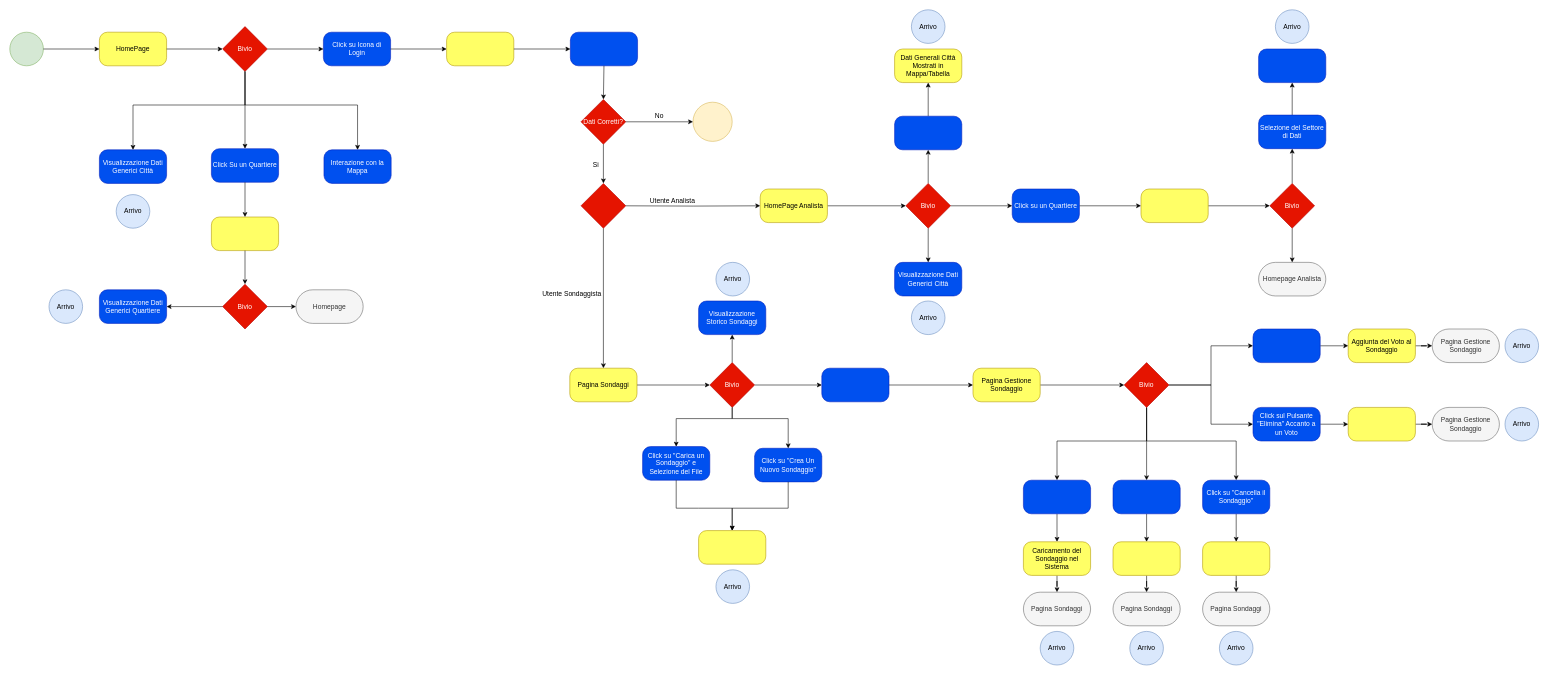
Image size: 1548x675. Some labels were removed from this diagram. The shapes that lost their labels are listed below. From the top down, each one's centre as x and y in pixels, then its label:
[26,49]: Inizio
[480,49]: Pagina Login
[604,49]: Inserimento username e Password
[1292,65]: Visualizzazione Dati Specifici Quartieri
[712,121]: Pausa
[928,133]: Click sul Pulsante Mappa/Tabella
[603,205]: Tipo Utente?
[1174,205]: Pagina Quartiere Analista
[245,233]: Pagina Quartiere
[1286,345]: Compilazione Form con i Dati del Cittadino e Click su "Vota"
[855,385]: Click su un Sondaggio
[1381,424]: Cancellamento del Voto dal Sondaggio
[1057,497]: Click su "Termina e Carica il Sondaggio"
[1146,497]: Click su "Salva ed Esci"
[732,547]: Creazione Nuovo Sondaggio
[1146,558]: Salvataggio dei Cambiamenti Fatti al Sondaggio
[1236,558]: Eliminazione del Sondaggio
